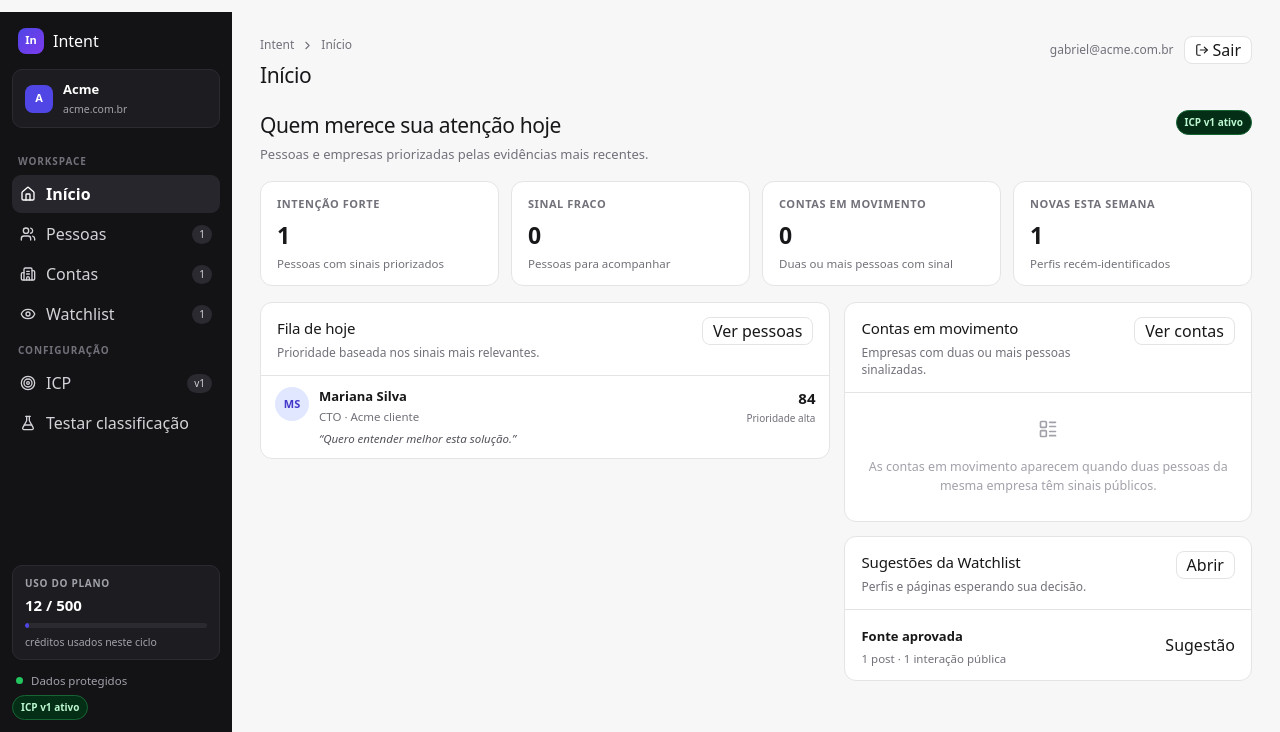
Test case: IntentV1Workspace › approves a watchlist source through the real status service
Expected: the heading "Início" is shown, x1=260 y1=61 x2=311 y2=89
What coordinates should you click on to do the following:
click the button "Watchlist 1"
I would click on:
 (116, 314)
Its box is x1=12 y1=295 x2=220 y2=333.
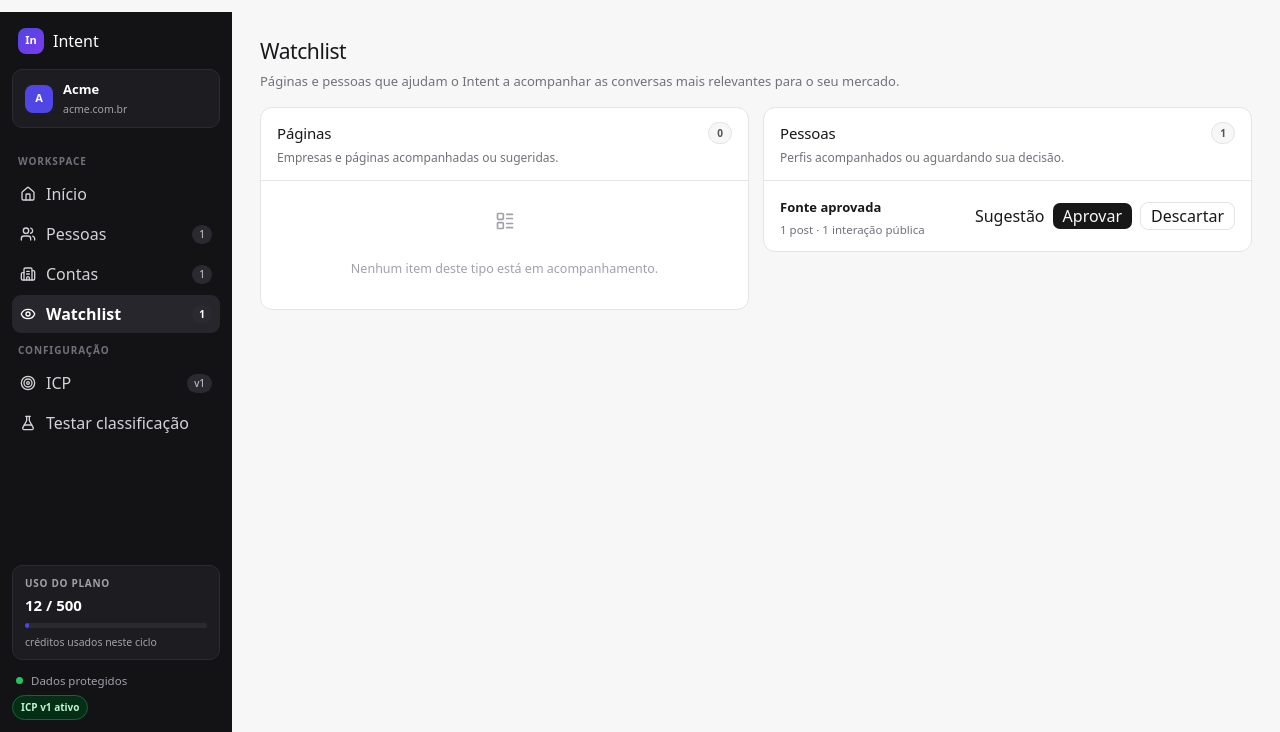
Expected: the text "Sugestão" is shown, x1=975 y1=204 x2=1044 y2=228
What coordinates should you click on to do the following:
click the button "Aprovar"
I would click on:
 (1092, 216)
Its box is x1=1052 y1=202 x2=1133 y2=230.
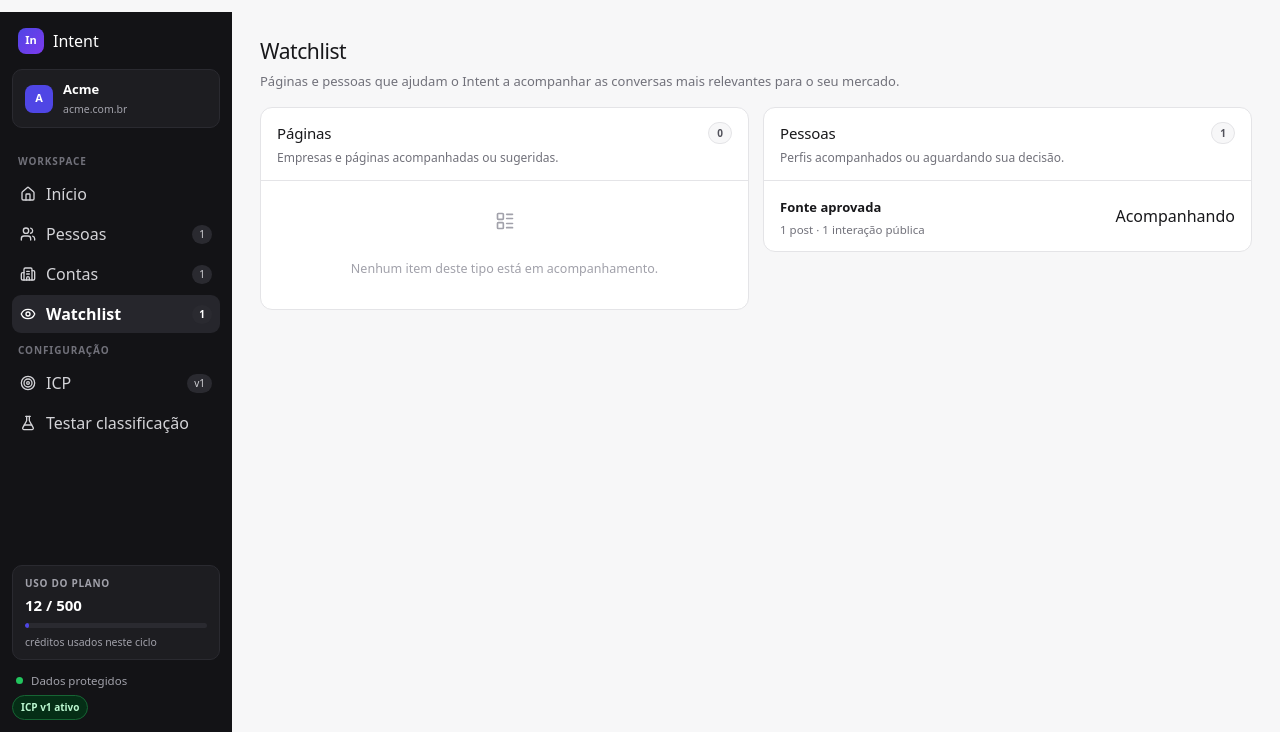
Expected: the text "Acompanhando" is shown, x1=1116 y1=204 x2=1235 y2=228
